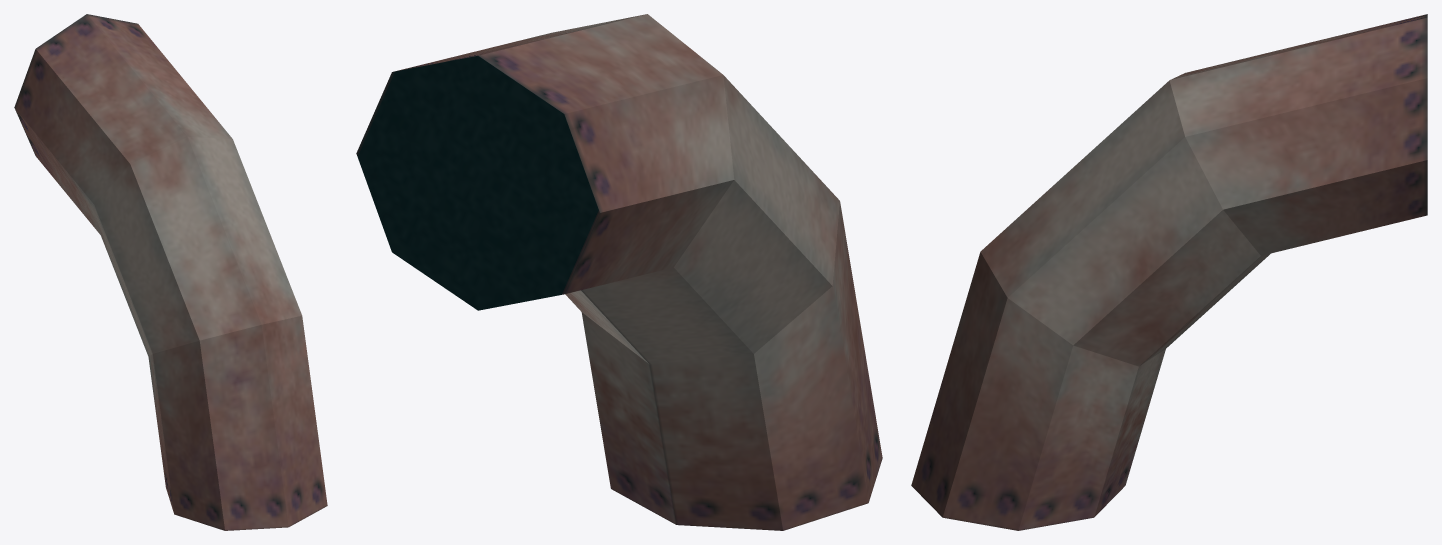
Rendered from PipeBend.fbx.
3 renders of one model, left to right at view 1: azimuth 30°, elevation 25°; view 2: azimuth 150°, elevation 25°; view 3: azimuth 270°, elevation 25°, orthographic. The views are drawn at different scales.
Visible parts, largest first — view 1: Cylinder; view 2: Cylinder; view 3: Cylinder.
Boxes of the visible parts, x1,y1,x2,y2 form: Cylinder: (14, 14, 327, 530); Cylinder: (356, 14, 882, 530); Cylinder: (911, 14, 1427, 530).
Size of the model in its own units: 100 by 241 by 241.
